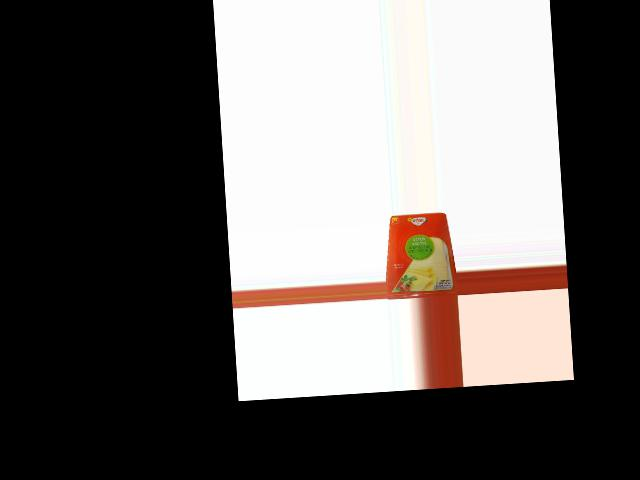cheese: (381, 212, 456, 300)
